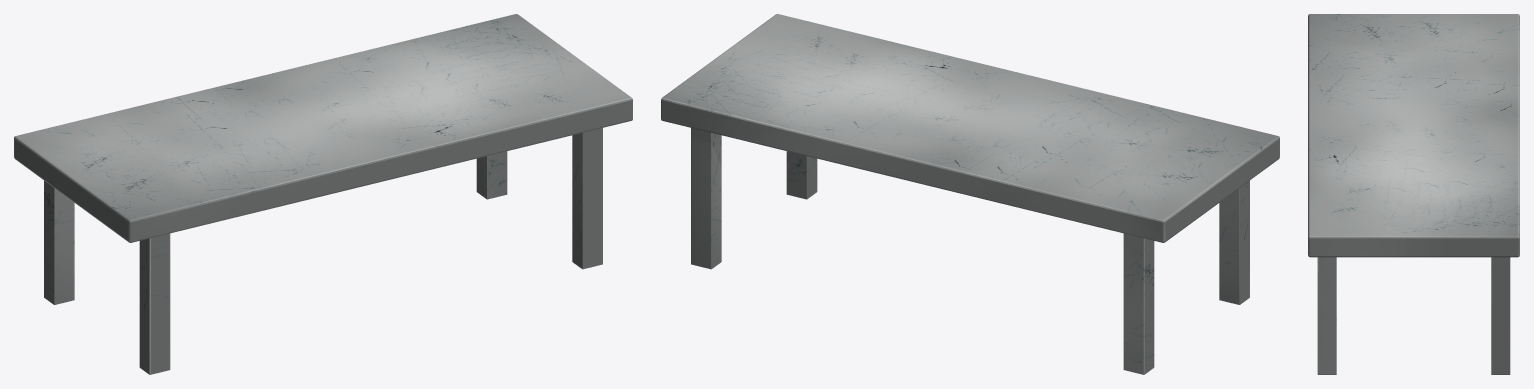
The model's file is table_noPlate.fbx.
3 views of the same model, side by side, from view 1: azimuth 30°, elevation 25°; view 2: azimuth 150°, elevation 25°; view 3: azimuth 270°, elevation 25° (orthographic). The views are drawn at different scales.
Parts seen in each view (by area): view 1: Cylinder; view 2: Cylinder; view 3: Cylinder.
Boxes of the visible parts, box(x1,y1,x2,y2) form: Cylinder: box(14, 14, 632, 374); Cylinder: box(661, 14, 1279, 374); Cylinder: box(1308, 14, 1519, 374).
Bounding box in the file's own units: 691 × 215 × 276.
